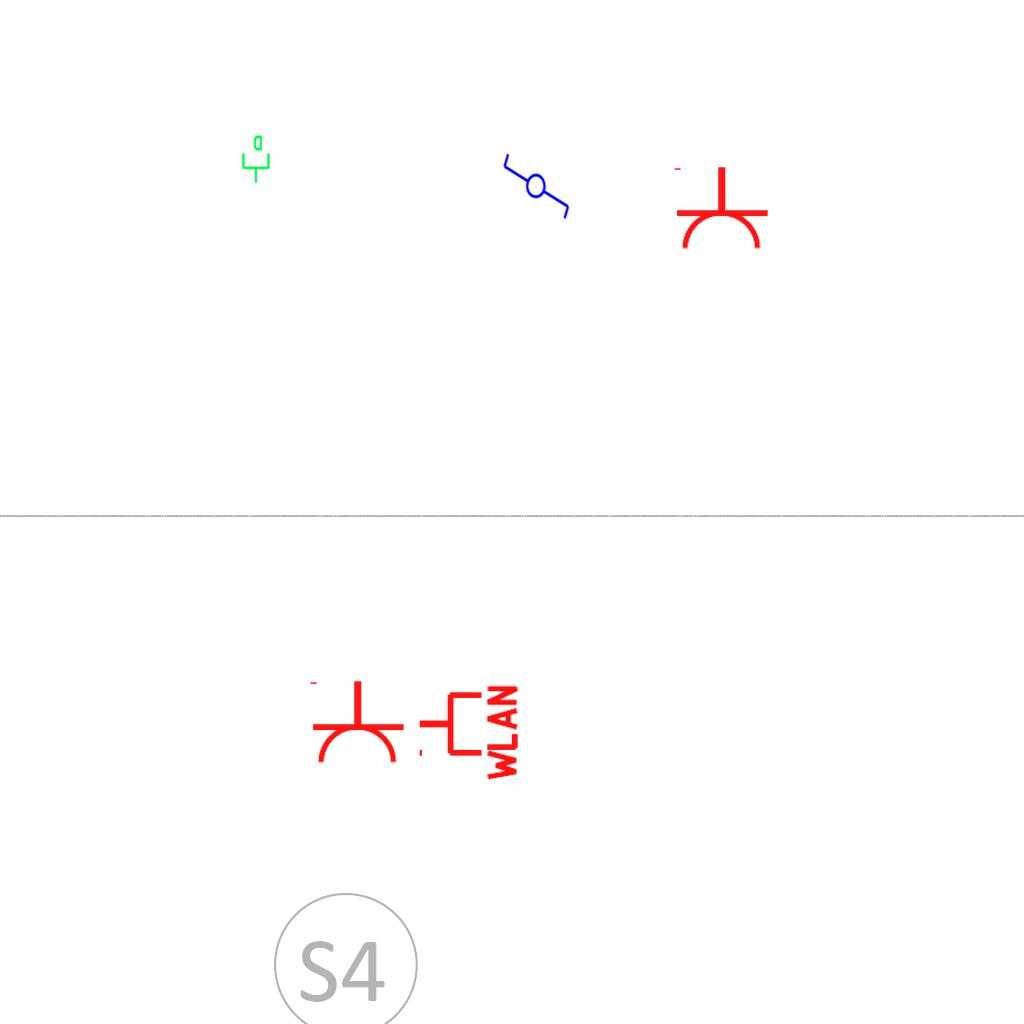Datenanschluss_einfach: (238, 134, 272, 184)
Schukosteckdose_einfach: (306, 679, 406, 766), (670, 165, 770, 252)
WLAN: (415, 681, 520, 785)
Wechselschalter: (501, 143, 573, 221)
